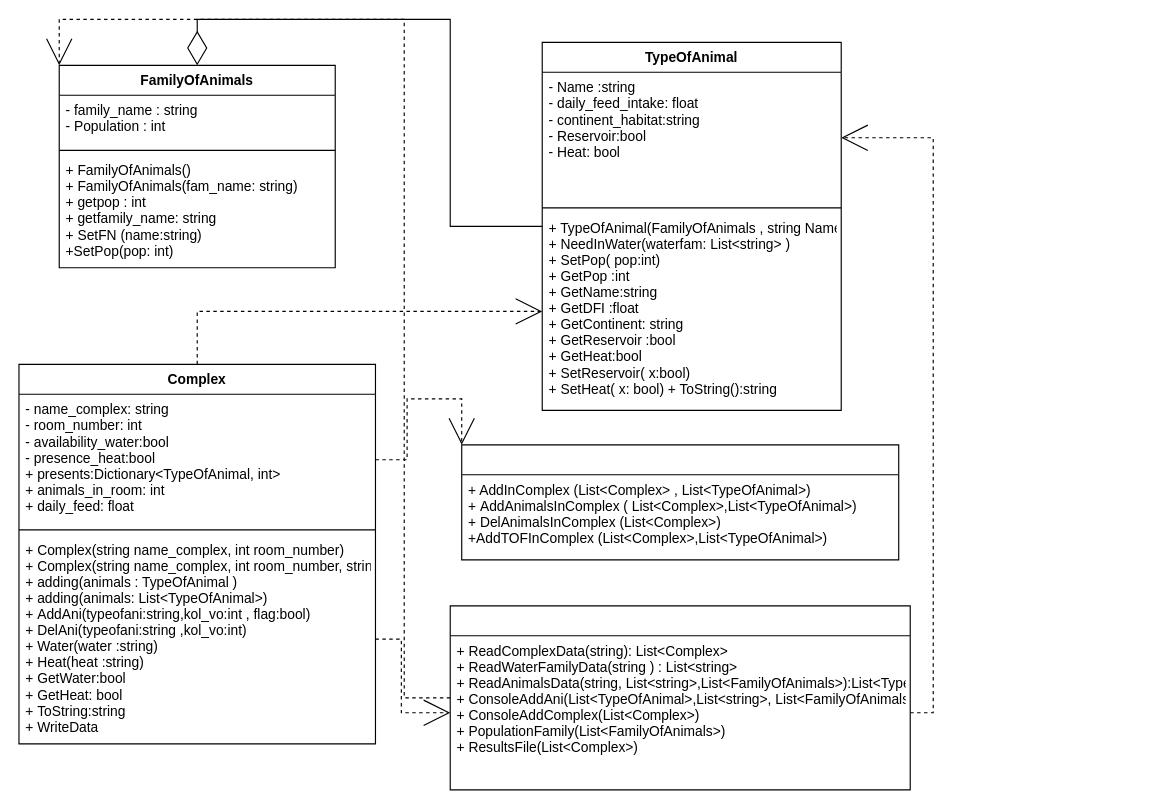
This 1160x808 diagram has some shape labels left out. The shapes that lost their labels are listed below. From the top down, each one's box as (x1, y1, x2, y2) in pixels, then its label:
(461, 444, 899, 560): Resettlement
(449, 605, 910, 790): InputOutput
